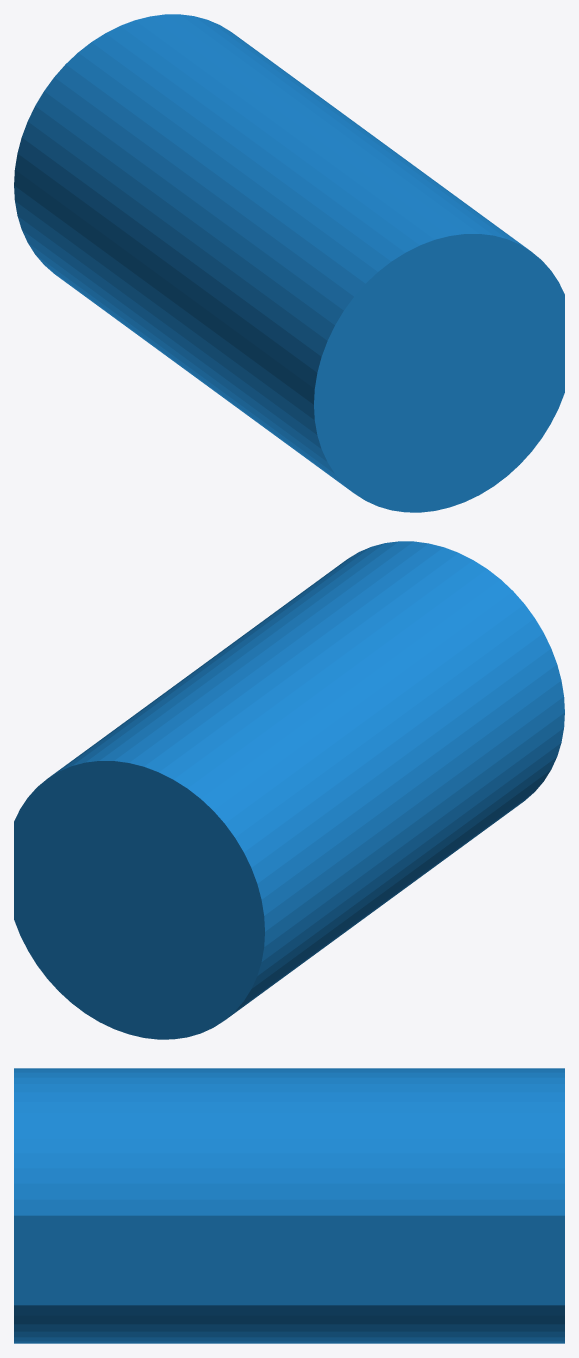
3 renders of one model, top to bottom at view 1: azimuth 30°, elevation 25°; view 2: azimuth 150°, elevation 25°; view 3: azimuth 270°, elevation 25°, orthographic. The views are drawn at different scales.
Size of the model in its own units: 0.029 by 0.03 by 0.06.
